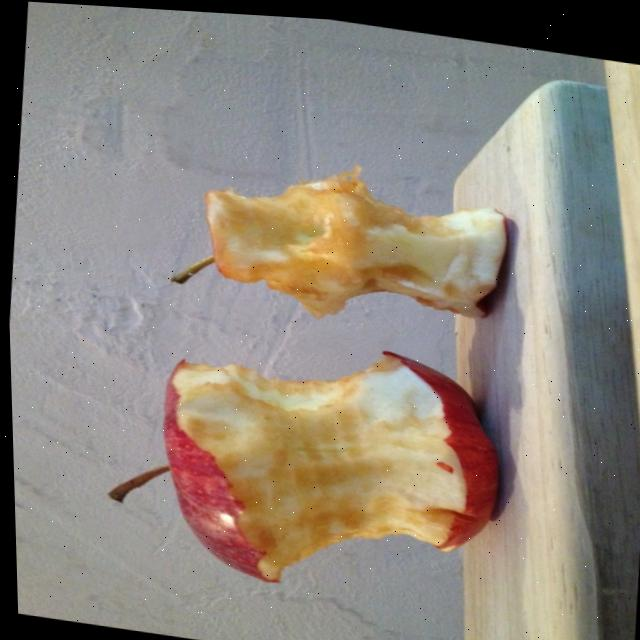Wet: (93, 310, 506, 612), (160, 135, 514, 342)
